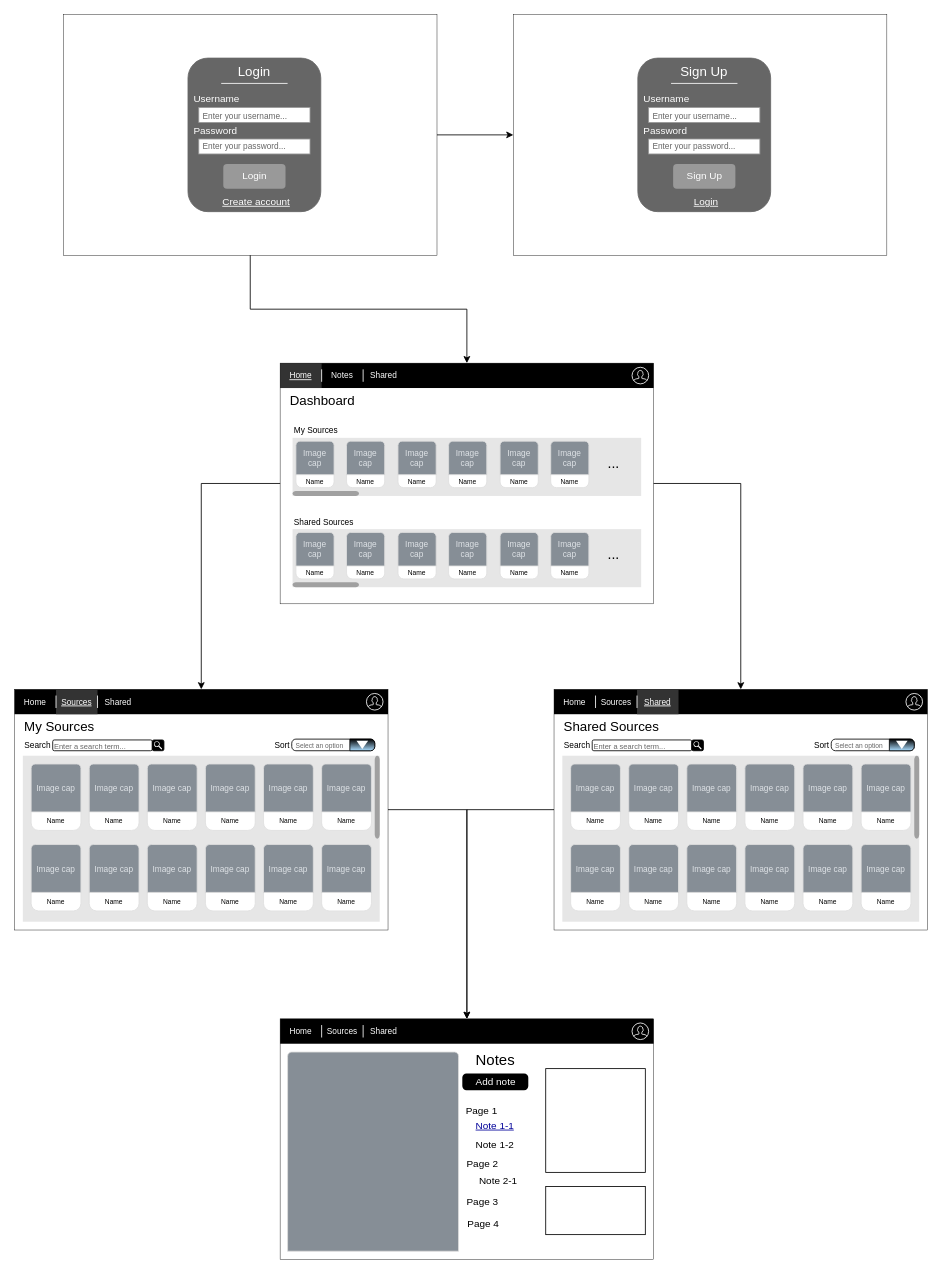
The diagram is 950 pixels wide and 1274 high, and some of its shapes have lost their labels. Here are the shapes that lost their labels. From the top down, the centre of each, then its label:
At point (595, 1120): "Note 1-1 text".
At point (373, 1151): "PDF".
At point (595, 1210): "Tags".
